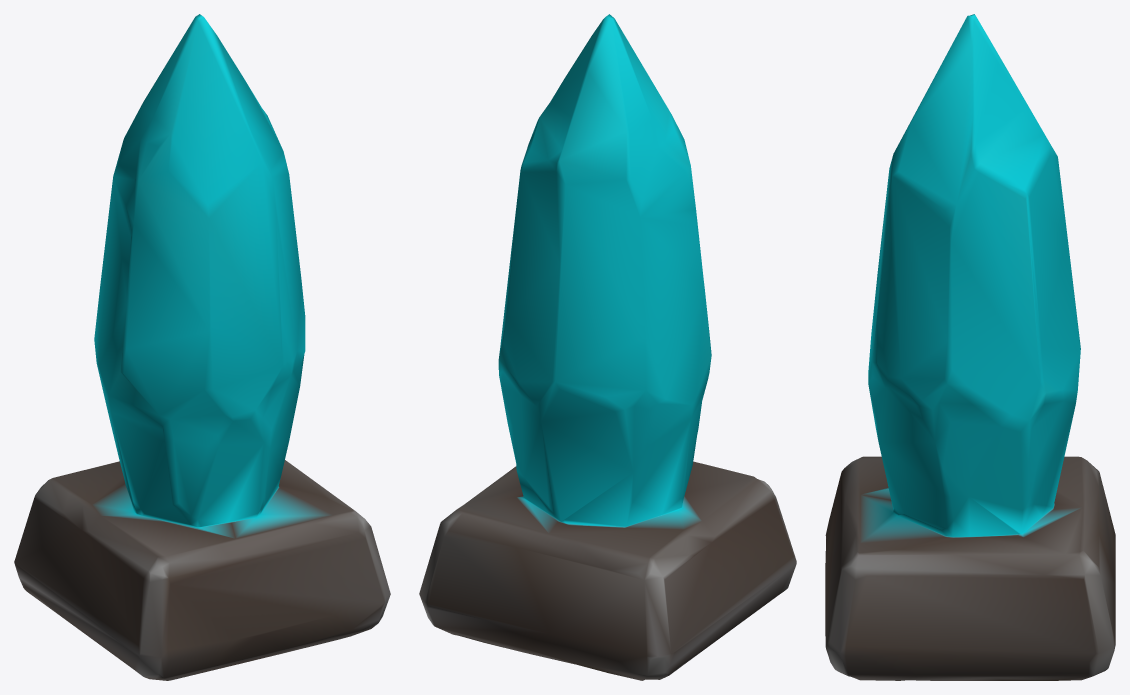
Rendered from gen3d-energy-crystal-lod1.glb.
3 views of the same model, side by side, from view 1: azimuth 30°, elevation 25°; view 2: azimuth 150°, elevation 25°; view 3: azimuth 270°, elevation 25° (orthographic). The views are drawn at different scales.
Visible parts, largest first — view 1: part_0; view 2: part_0; view 3: part_0.
Part boxes in pixels (box(x1,y1,x2,y2)): part_0: box(14, 14, 390, 680); part_0: box(419, 14, 796, 680); part_0: box(825, 14, 1115, 680).
Size of the model in its own units: 0.4367 by 0.9934 by 0.4266.
